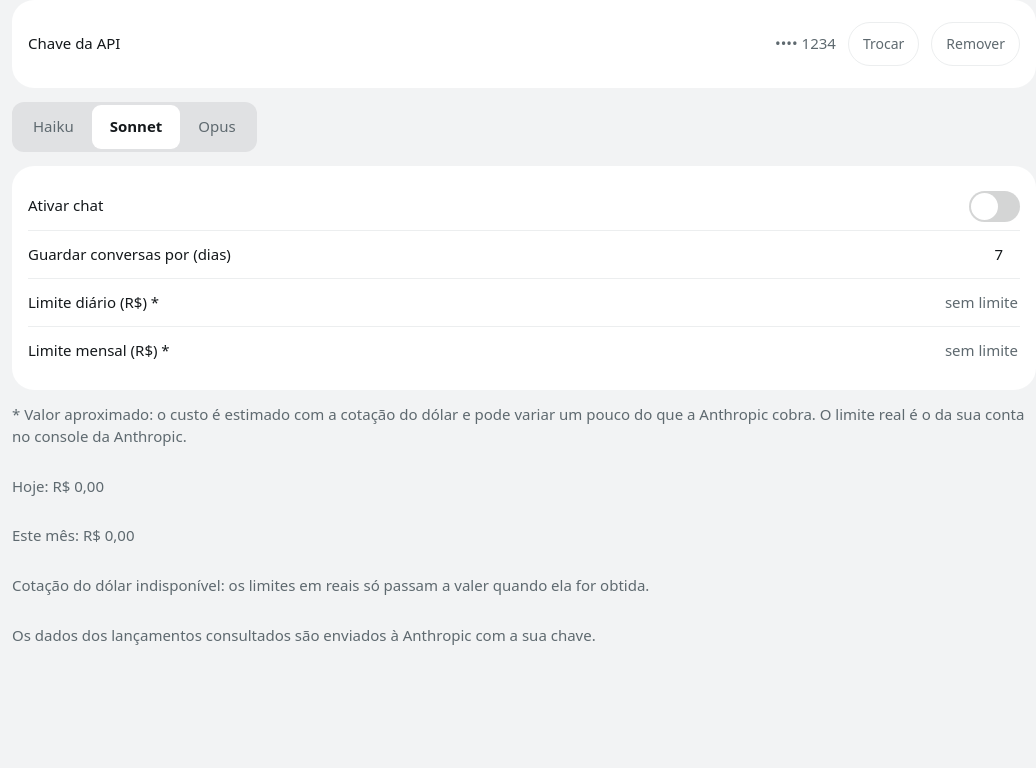
Test: Assistant screen › an invalid limit abc shows an error and sends nothing
This screenshot has width=1036, height=768.
Type "abc" into the field labelled "Limite diário (R$) *" at coordinates (733, 302), box [447,291,1020,314]
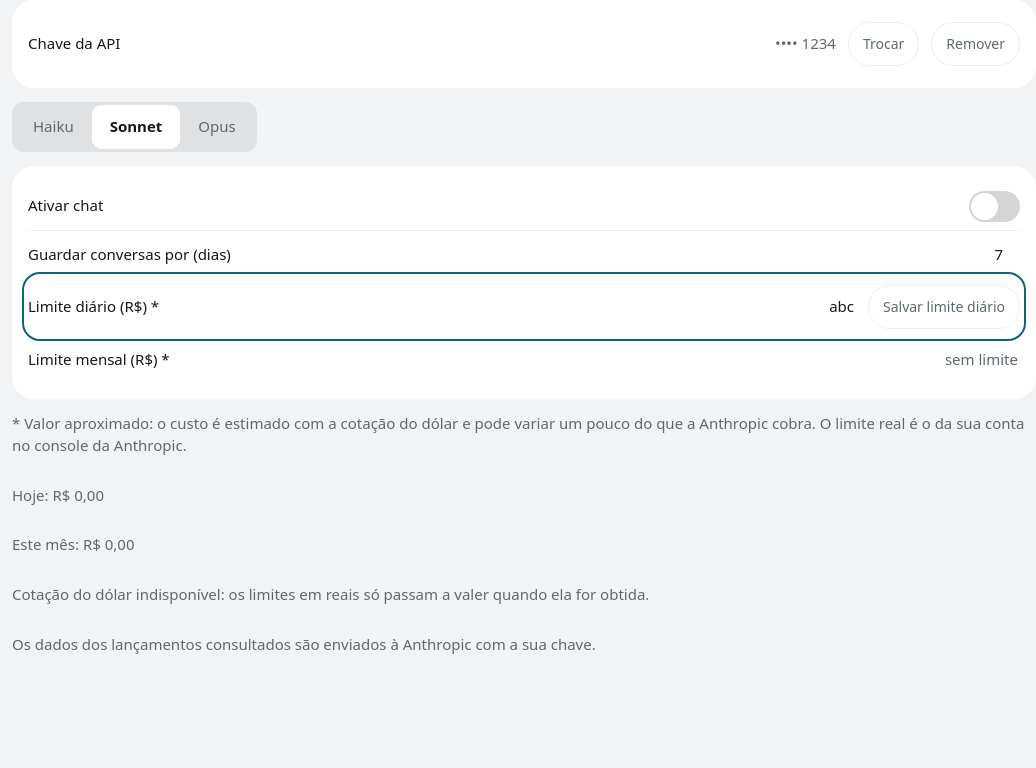
Click the button "Salvar limite diário" at coordinates (944, 307), box [868,285,1020,329]
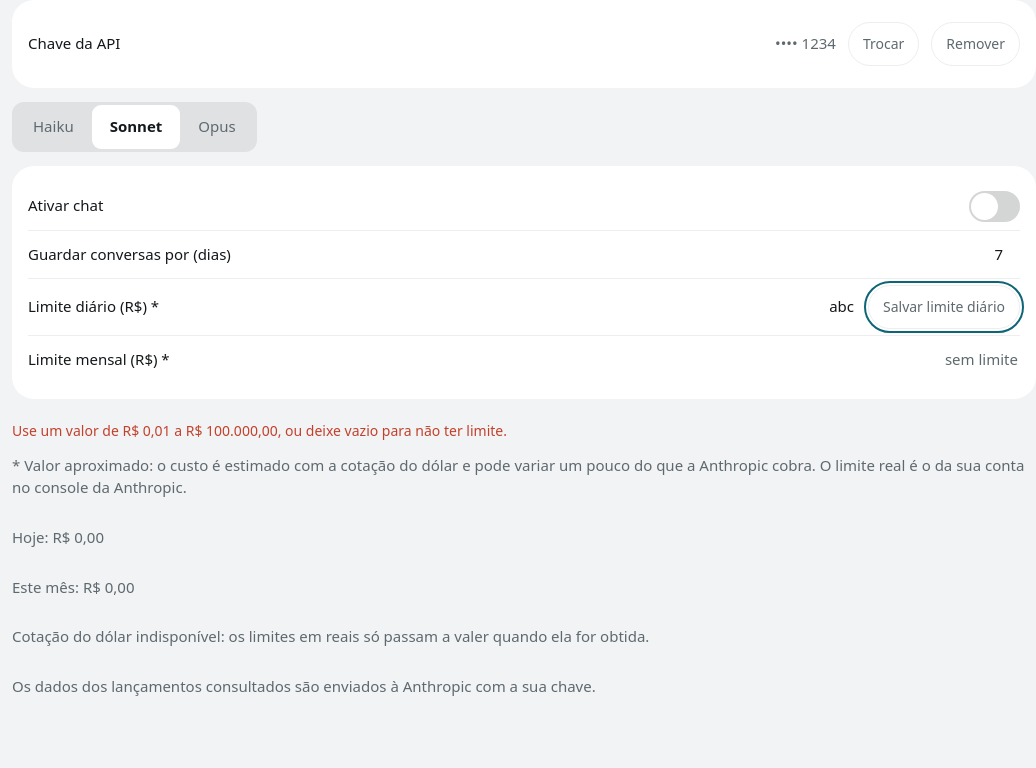
Check: the message reads "Use um valor de R$ 0,01 a R$ 100.000,00, ou deixe vazio para não ter limite.", box [12,421,507,440]
